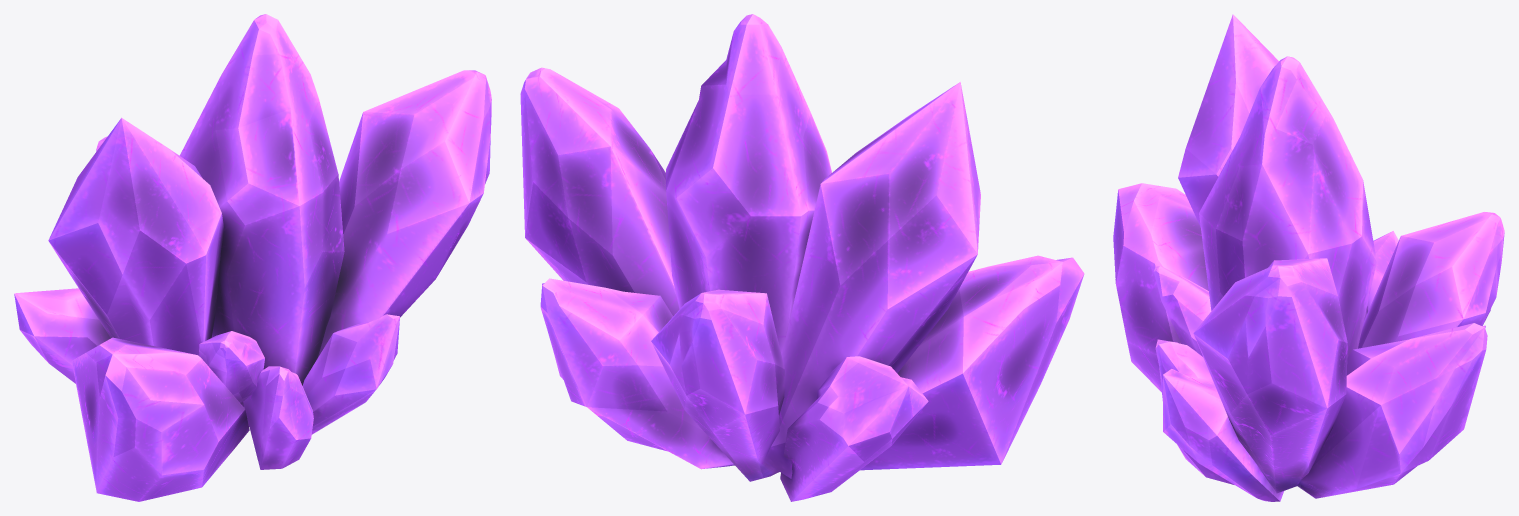
File: phiras.glb
3 views of the same model, side by side, from view 1: azimuth 30°, elevation 25°; view 2: azimuth 150°, elevation 25°; view 3: azimuth 270°, elevation 25° (orthographic). The views are drawn at different scales.
Parts seen in each view (by area): view 1: Cylinder.005; view 2: Cylinder.005; view 3: Cylinder.005.
Boxes of the visible parts, x1,y1,x2,y2 form: Cylinder.005: (14,14,491,501); Cylinder.005: (520,14,1084,501); Cylinder.005: (1113,14,1504,501).
Size of the model in its own units: 2.77 by 2.46 by 2.
Materials: 1 (1 with a texture image).
